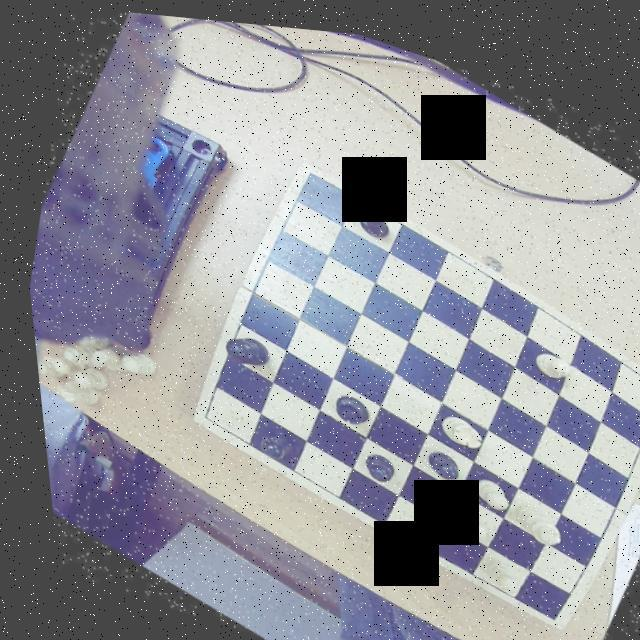chess-table-corners: (289, 154, 326, 189), (179, 393, 214, 428), (520, 592, 556, 622), (634, 364, 640, 394)
